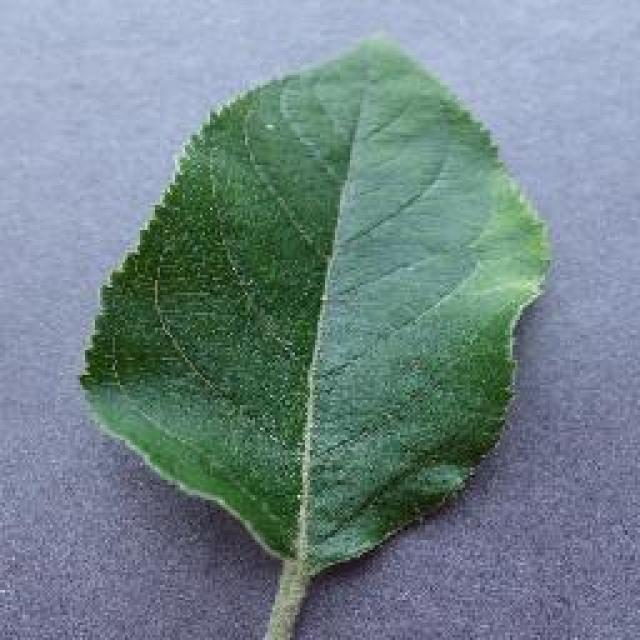apple healthy: (75, 32, 555, 638)
